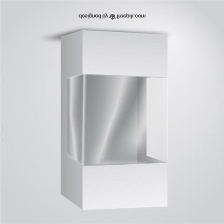plastic_box: (50, 22, 177, 216)
